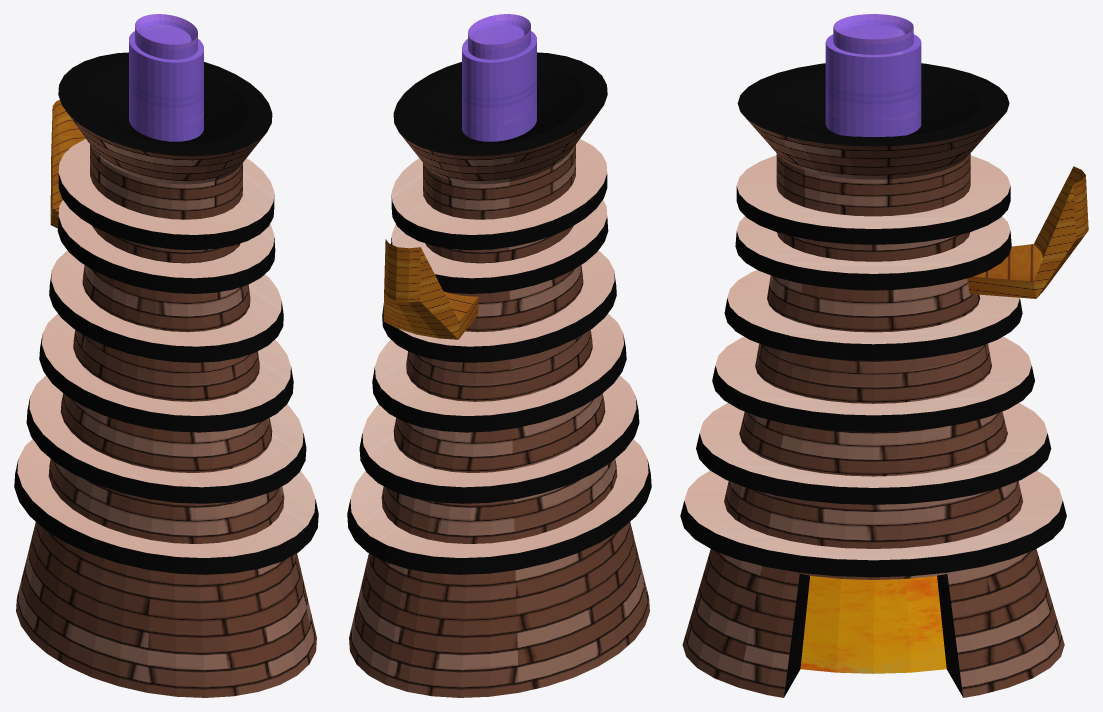
The model's file is Level3Machine2Textured.fbx.
The picture shows the model from 3 angles, left to right: view 1: azimuth 30°, elevation 25°; view 2: azimuth 150°, elevation 25°; view 3: azimuth 270°, elevation 25°; orthographic projection. The views are drawn at different scales.
Visible parts, largest first — view 1: Cylinder; view 2: Cylinder; view 3: Cylinder.
Part boxes in pixels (x1=…): Cylinder: x1=14, y1=14, x2=318, y2=697; Cylinder: x1=347, y1=14, x2=651, y2=697; Cylinder: x1=680, y1=14, x2=1088, y2=697.
Bounding box in the file's own units: 388 × 914 × 547.
